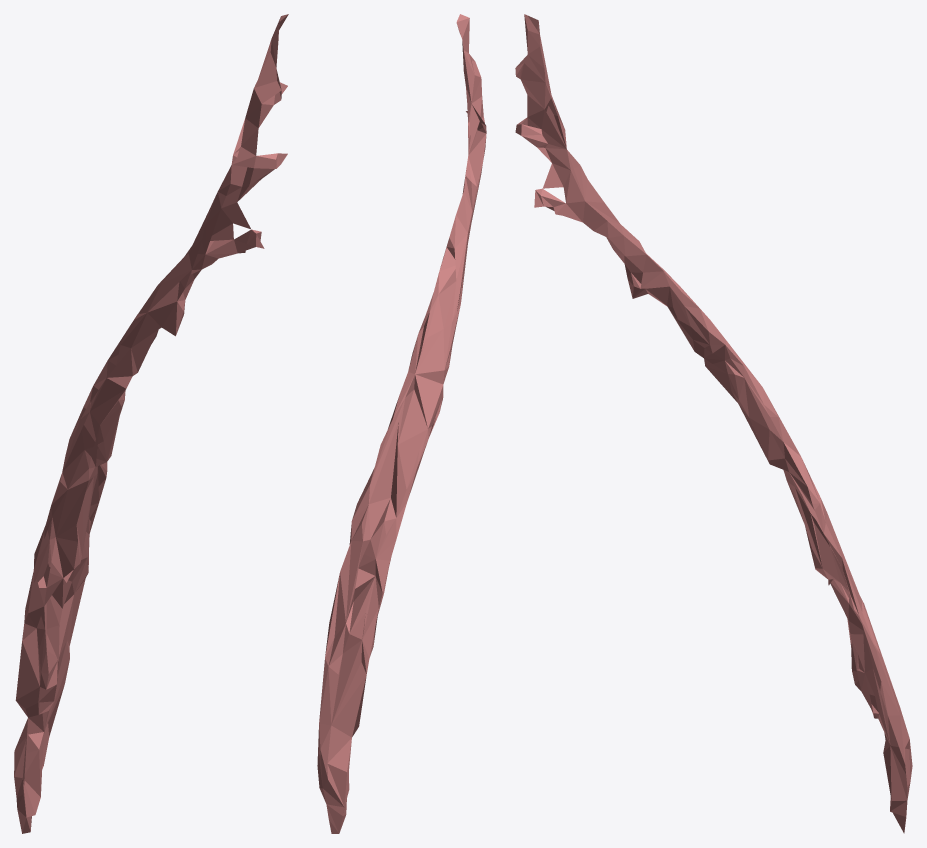
File: Longissimus_colli_muscle.r.glb
3 renders of one model, left to right at view 1: azimuth 30°, elevation 25°; view 2: azimuth 150°, elevation 25°; view 3: azimuth 270°, elevation 25°, orthographic. The views are drawn at different scales.
Visible parts, largest first — view 1: Longissimus_colli_muscle.r; view 2: Longissimus_colli_muscle.r; view 3: Longissimus_colli_muscle.r.
Boxes of the visible parts, bbox=[...] form: Longissimus_colli_muscle.r: bbox=[14, 14, 288, 833]; Longissimus_colli_muscle.r: bbox=[317, 14, 486, 833]; Longissimus_colli_muscle.r: bbox=[515, 14, 912, 833].
Bounding box in the file's own units: 0.0172 × 0.1861 × 0.0802.
